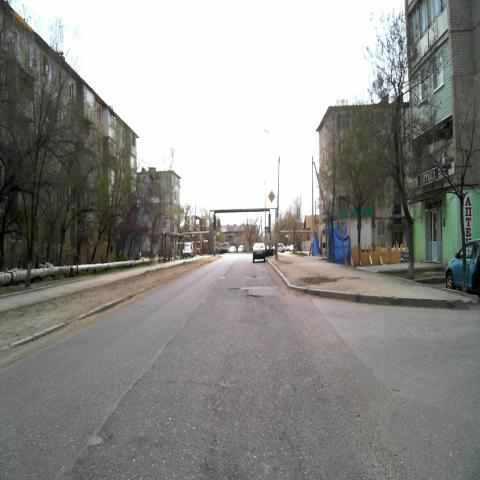2_1: (268, 190, 275, 204)
